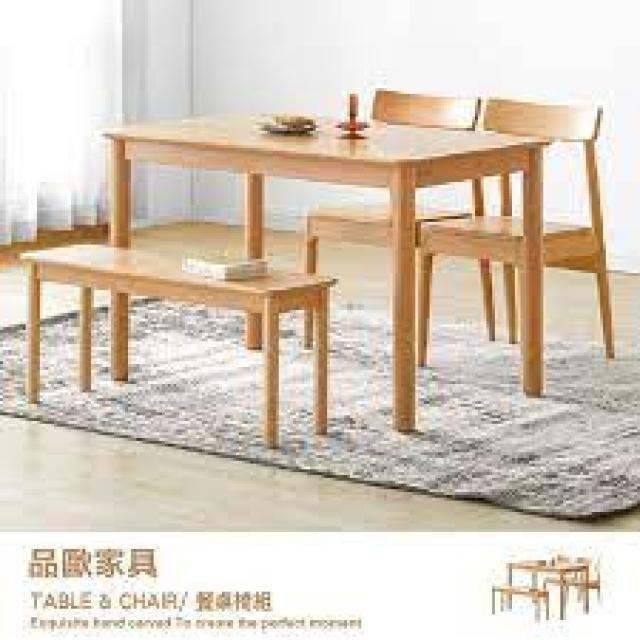table: (16, 72, 630, 450)
